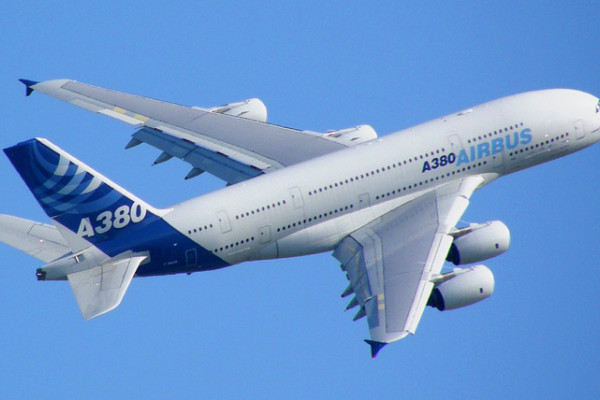aeroplane: (3, 50, 592, 355)
